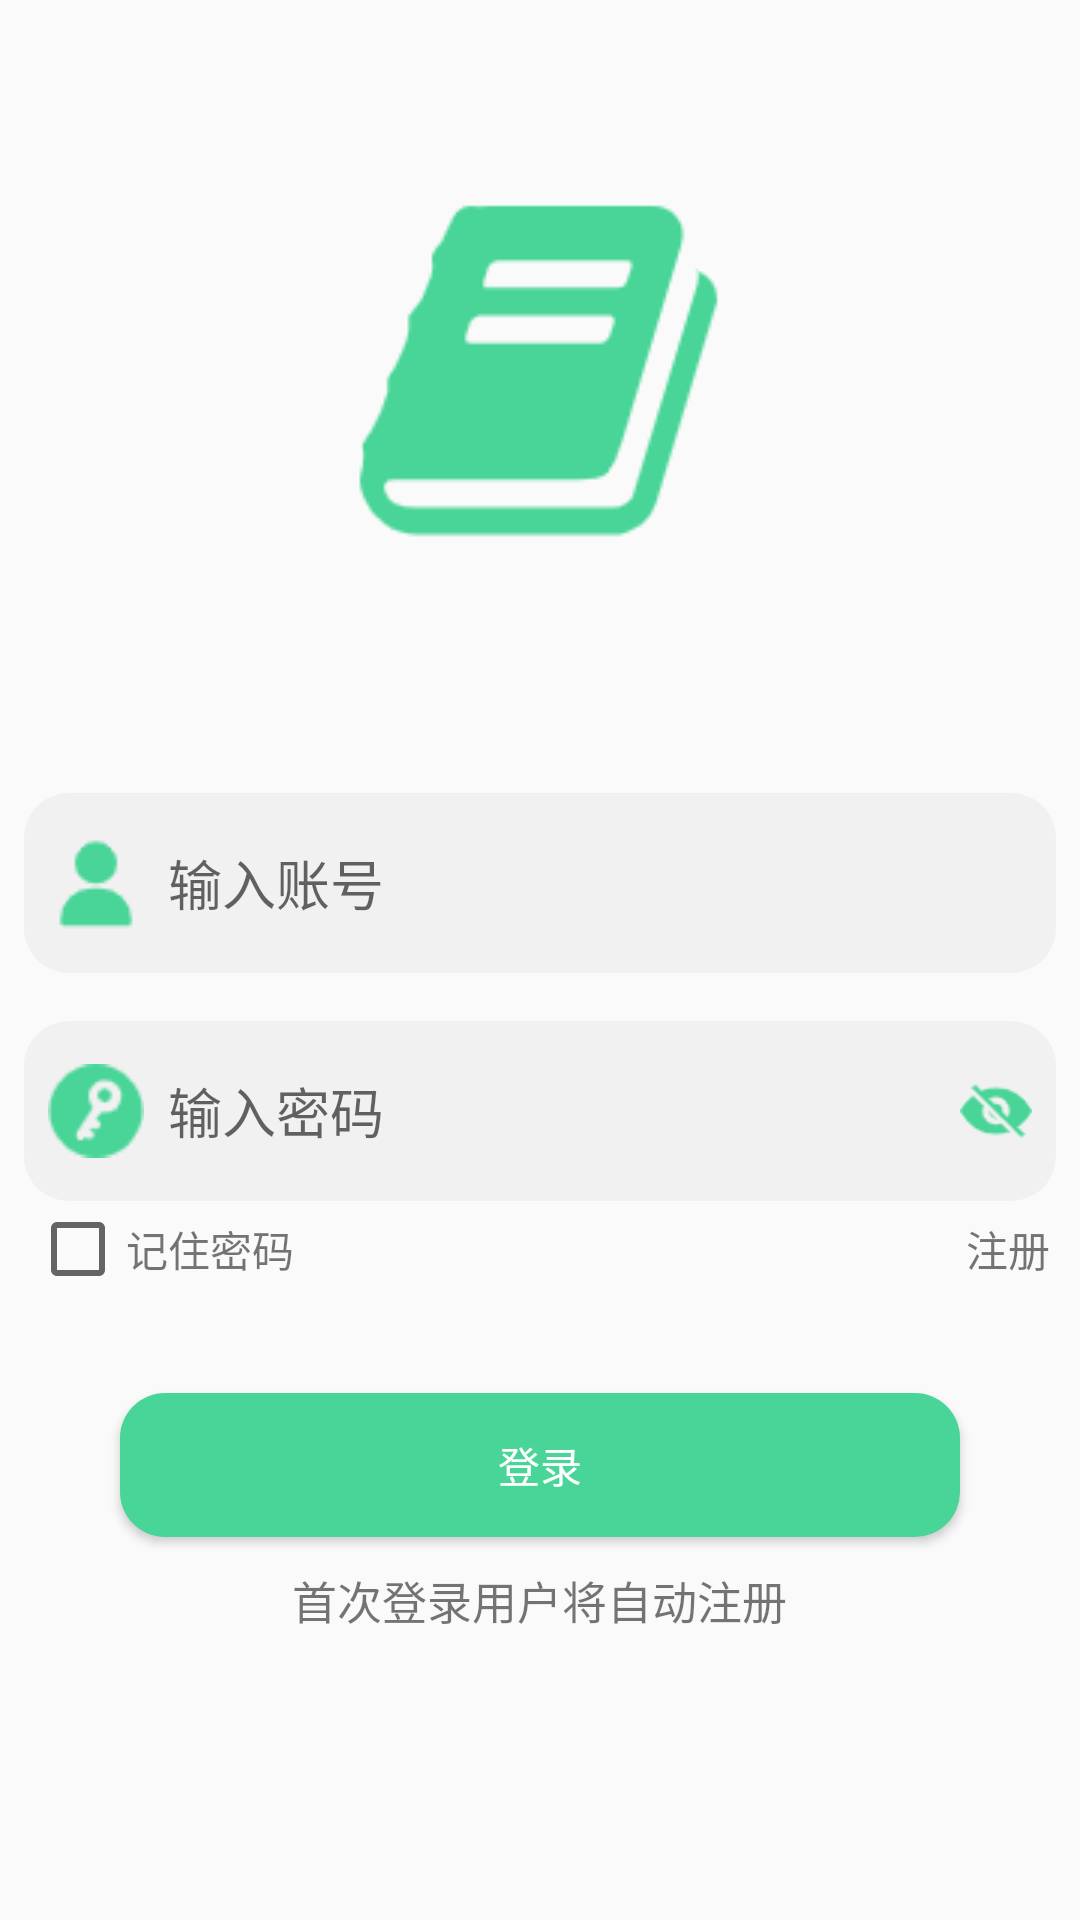

Locate icon controls on the screen. Image size 1080w x 1920h, boxes as bbox(x1, y1, x2, y2).
book: bbox(359, 205, 718, 537)
eye slash: bbox(960, 1084, 1032, 1138)
